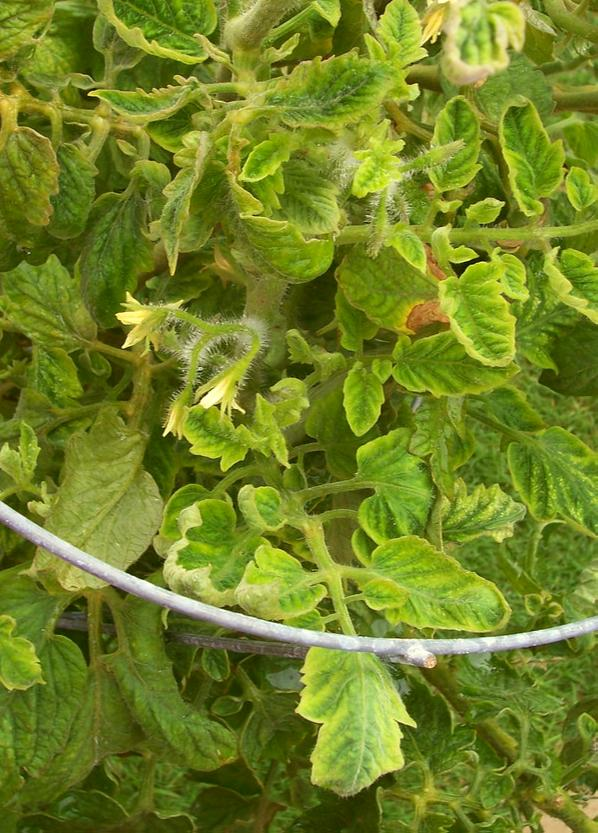Tomato leaf yellow virus: (295, 610, 414, 807), (234, 36, 416, 136), (353, 532, 513, 632), (426, 236, 534, 373), (234, 148, 341, 246), (384, 335, 553, 397), (229, 547, 341, 632), (493, 92, 562, 222), (86, 0, 220, 66), (543, 244, 598, 353), (426, 91, 481, 197), (369, 0, 429, 97), (334, 341, 391, 442), (179, 401, 271, 463), (0, 586, 52, 695)
